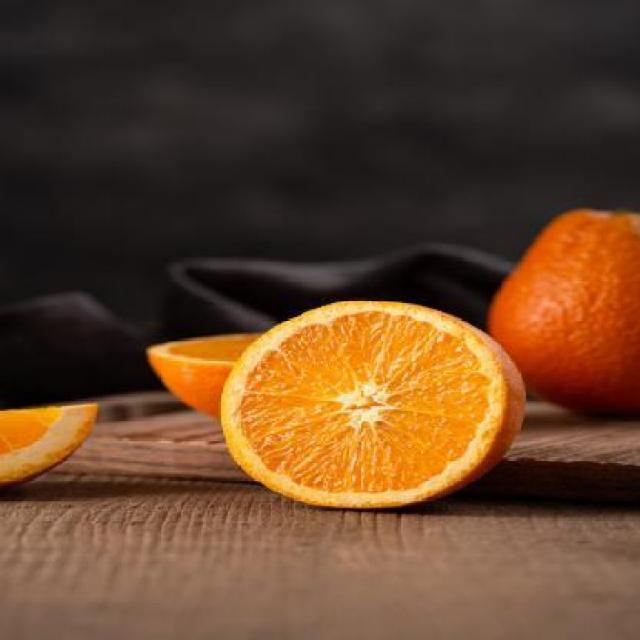Jeruk Sudah Matang: (493, 211, 639, 426)
